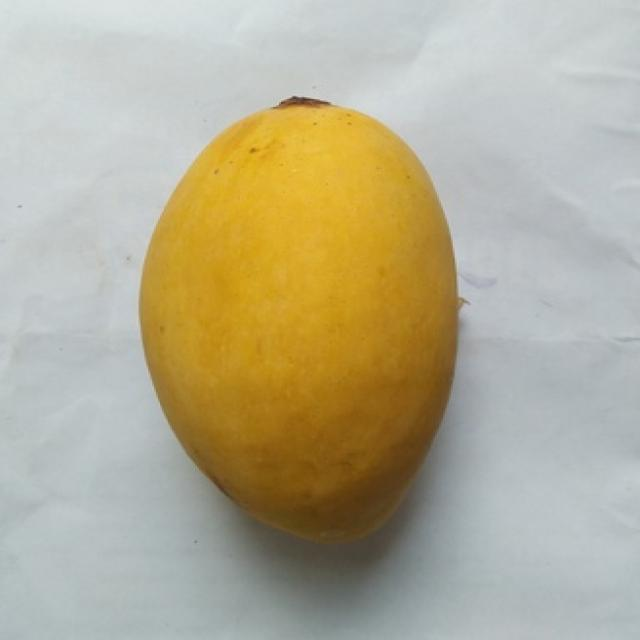Mango: (139, 97, 459, 539)
